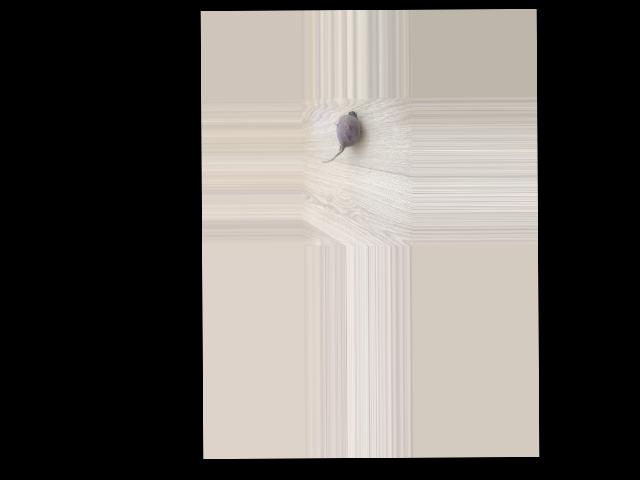beet: (321, 112, 361, 164)
